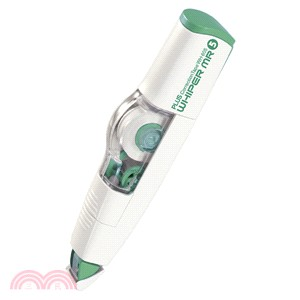correction tape: (65, 8, 235, 291)
